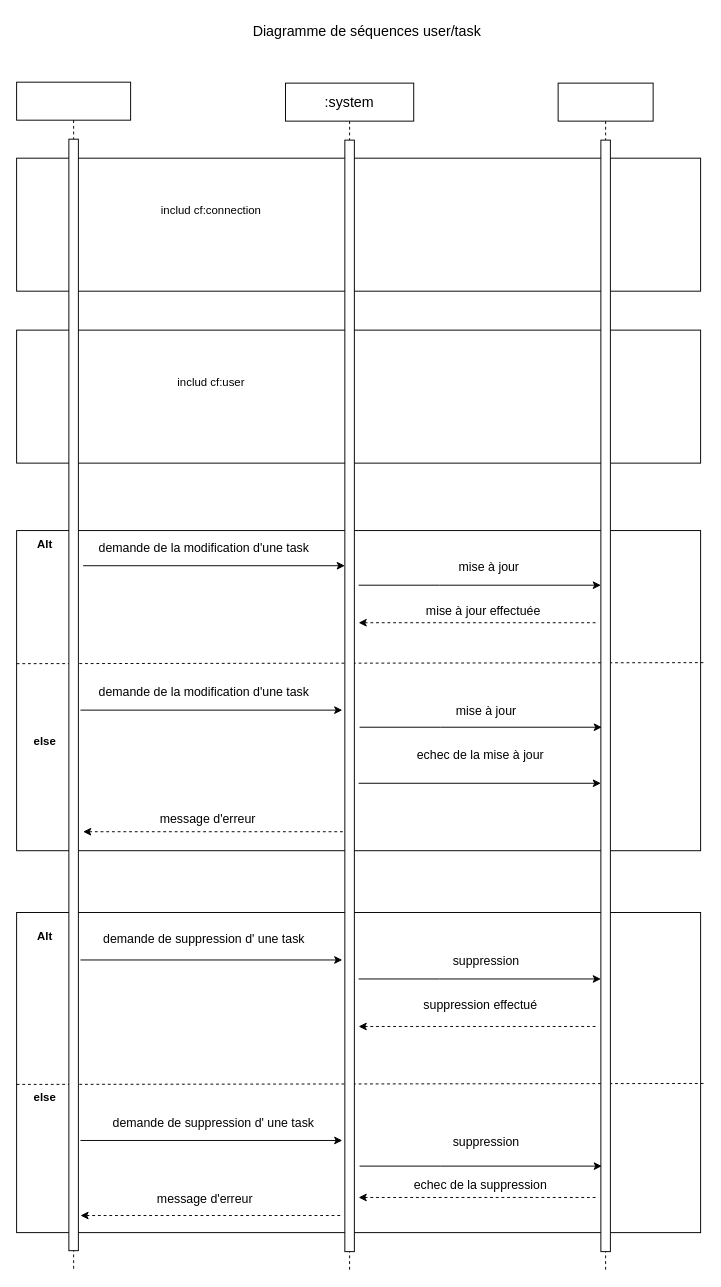
Image size: 721x1287. Some labels were removed from this diagram. Here are the shapes that lost their labels. From the top down, the box of each, then its label:
(16, 81, 131, 1271): :user
(557, 82, 653, 1271): :Bdd
